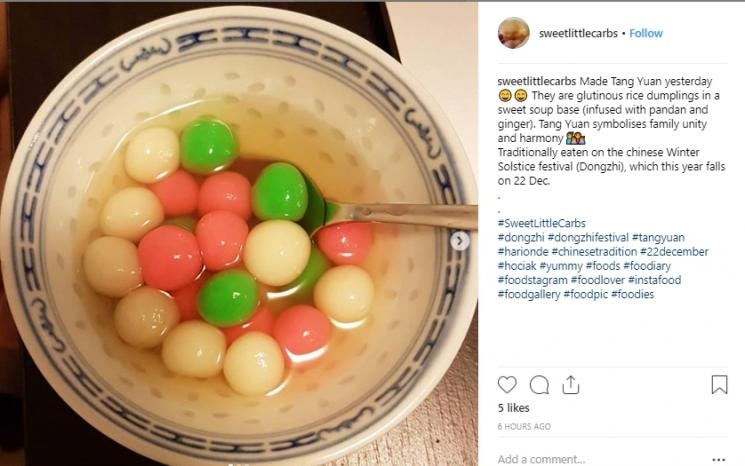ronde: (72, 90, 389, 398)
